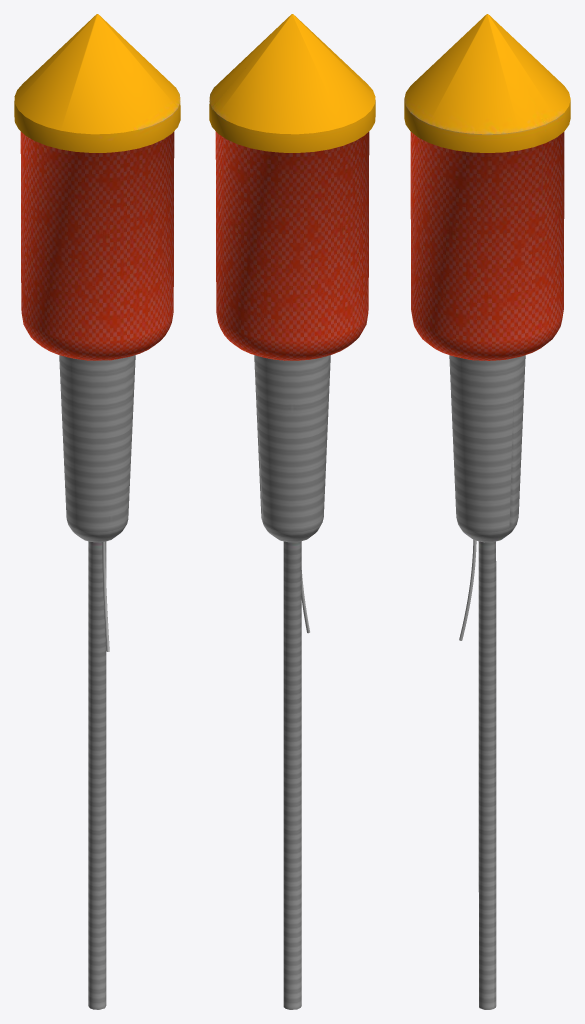
The picture shows the model from 3 angles, left to right: view 1: azimuth 30°, elevation 25°; view 2: azimuth 150°, elevation 25°; view 3: azimuth 270°, elevation 25°; orthographic projection.
Visible parts, largest first — view 1: defaultMaterial; view 2: defaultMaterial; view 3: defaultMaterial.
Part boxes in pixels (left/top/right/bottom): defaultMaterial: left=14, top=14, right=180, bottom=1009; defaultMaterial: left=209, top=14, right=375, bottom=1009; defaultMaterial: left=404, top=14, right=570, bottom=1009.
Bounding box in the file's own units: 0.3045 × 2 × 0.3045.
1 material, 1 textured.
